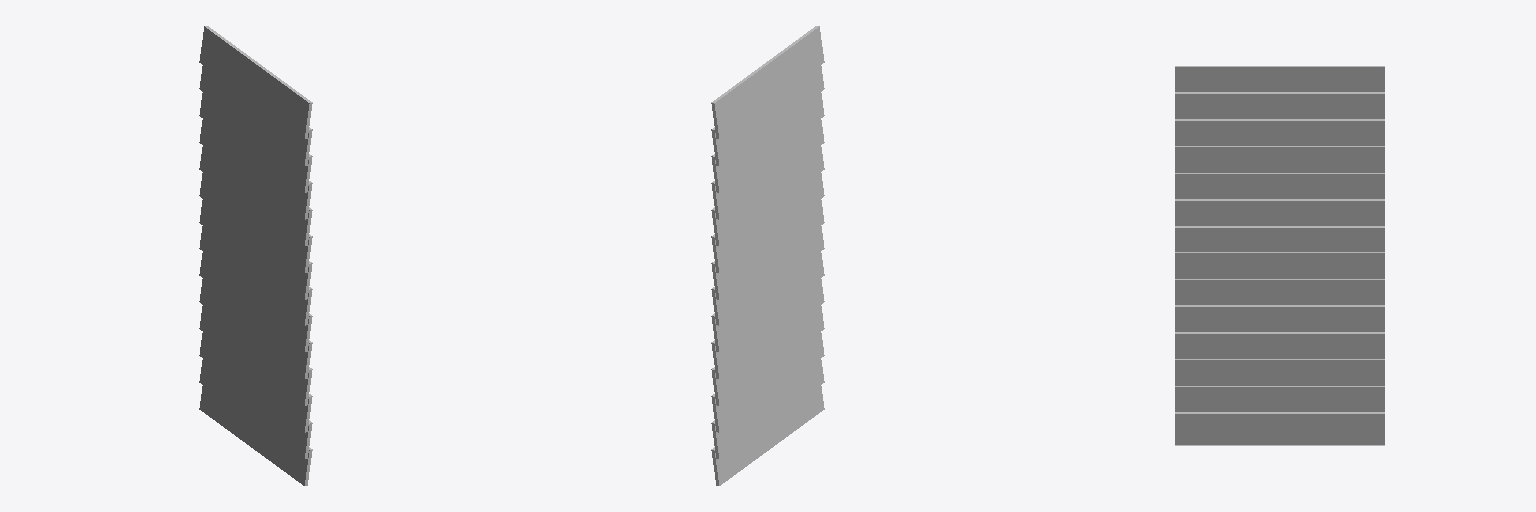
Rendered from 卷帘门.obj.
3 views of the same model, side by side, from view 1: azimuth 30°, elevation 25°; view 2: azimuth 150°, elevation 25°; view 3: azimuth 270°, elevation 25° (orthographic).
Parts seen in each view (by area): view 1: Box002, Box007, Box005, Box015, Box014, Box003, Box012, Box010, Box011, Box006, Box004, Box008 (+2 smaller); view 2: Box002, Box007, Box005, Box015, Box014, Box003, Box012, Box010, Box011, Box006, Box004, Box008 (+2 smaller); view 3: Box015, Box014, Box009, Box007, Box004, Box003, Box005, Box013, Box011, Box006, Box008, Box002 (+2 smaller).
Part boxes in pixels (left/top/right/bottom): Box002: left=199, top=26, right=312, bottom=138; Box007: left=199, top=173, right=312, bottom=272; Box005: left=199, top=119, right=312, bottom=219; Box015: left=199, top=386, right=312, bottom=485; Box014: left=199, top=332, right=312, bottom=432; Box003: left=199, top=66, right=312, bottom=165; Box012: left=199, top=252, right=312, bottom=352; Box010: left=199, top=359, right=312, bottom=459; Box011: left=199, top=279, right=312, bottom=378; Box006: left=199, top=146, right=312, bottom=245; Box004: left=199, top=92, right=312, bottom=192; Box008: left=199, top=199, right=312, bottom=299; Box002: left=711, top=26, right=824, bottom=138; Box007: left=711, top=173, right=824, bottom=272; Box005: left=711, top=119, right=824, bottom=219; Box015: left=711, top=386, right=824, bottom=485; Box014: left=711, top=332, right=824, bottom=432; Box003: left=711, top=66, right=824, bottom=165; Box012: left=711, top=252, right=824, bottom=352; Box010: left=711, top=359, right=824, bottom=459; Box011: left=711, top=279, right=824, bottom=378; Box006: left=711, top=146, right=824, bottom=245; Box004: left=711, top=92, right=824, bottom=192; Box008: left=711, top=199, right=824, bottom=299; Box015: left=1175, top=412, right=1384, bottom=445; Box014: left=1175, top=359, right=1384, bottom=385; Box009: left=1175, top=252, right=1384, bottom=278; Box007: left=1175, top=199, right=1384, bottom=225; Box004: left=1175, top=119, right=1384, bottom=145; Box003: left=1175, top=92, right=1384, bottom=118; Box005: left=1175, top=146, right=1384, bottom=172; Box013: left=1175, top=332, right=1384, bottom=358; Box011: left=1175, top=305, right=1384, bottom=331; Box006: left=1175, top=173, right=1384, bottom=198; Box008: left=1175, top=226, right=1384, bottom=251; Box002: left=1175, top=66, right=1384, bottom=91.
Bounding box in the file's own units: 19.5 × 878 × 439.